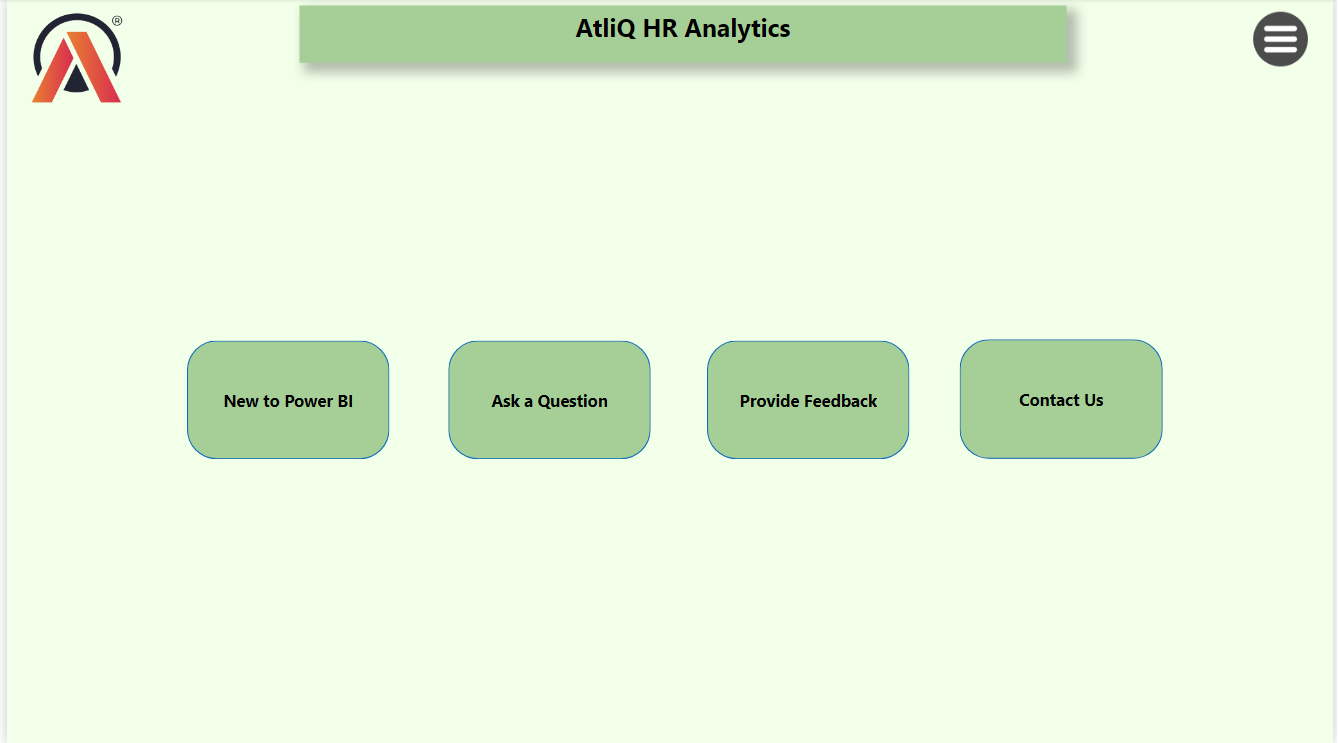

The dashboard page shown, as its layout file describes it:
{"tool":"powerbi","page":{"name":"Support","canvas":[1280,720],"ordinal":1},"visuals":[{"type":"textbox","box":[282,7,740,55],"z":0},{"type":"image","box":[18.6,7.1,100,100],"z":1000},{"type":"image","box":[1190,8.6,77.1,62.9],"z":2000},{"type":"shape","box":[173.6,330,195.4,114.6],"z":3000},{"type":"shape","box":[425.6,330,195.4,114.6],"z":4000},{"type":"shape","box":[675.3,330,195.4,114.6],"z":5000},{"type":"shape","box":[919.5,329.7,196.1,115.4],"z":7000}]}

Visuals, with their boxes in screenshot pixels (x1, y1, x2, y2), scaled from the page's 1280x720 canvas onto the 1338x743 screenshot:
textbox: (left=295, top=7, right=1068, bottom=64)
image: (left=19, top=7, right=124, bottom=111)
image: (left=1244, top=9, right=1325, bottom=74)
shape: (left=181, top=341, right=386, bottom=459)
shape: (left=445, top=341, right=649, bottom=459)
shape: (left=706, top=341, right=910, bottom=459)
shape: (left=961, top=340, right=1166, bottom=459)
